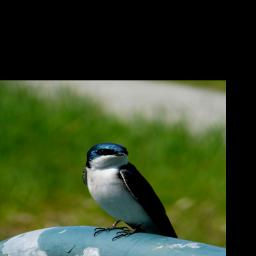Swallow: (80, 141, 178, 242)
